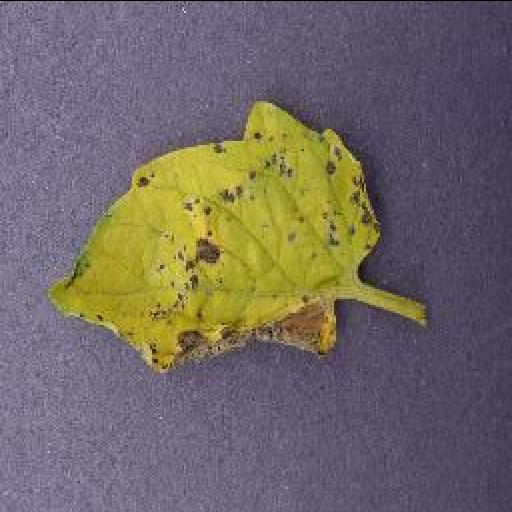disease_tomato: (43, 100, 377, 366)
